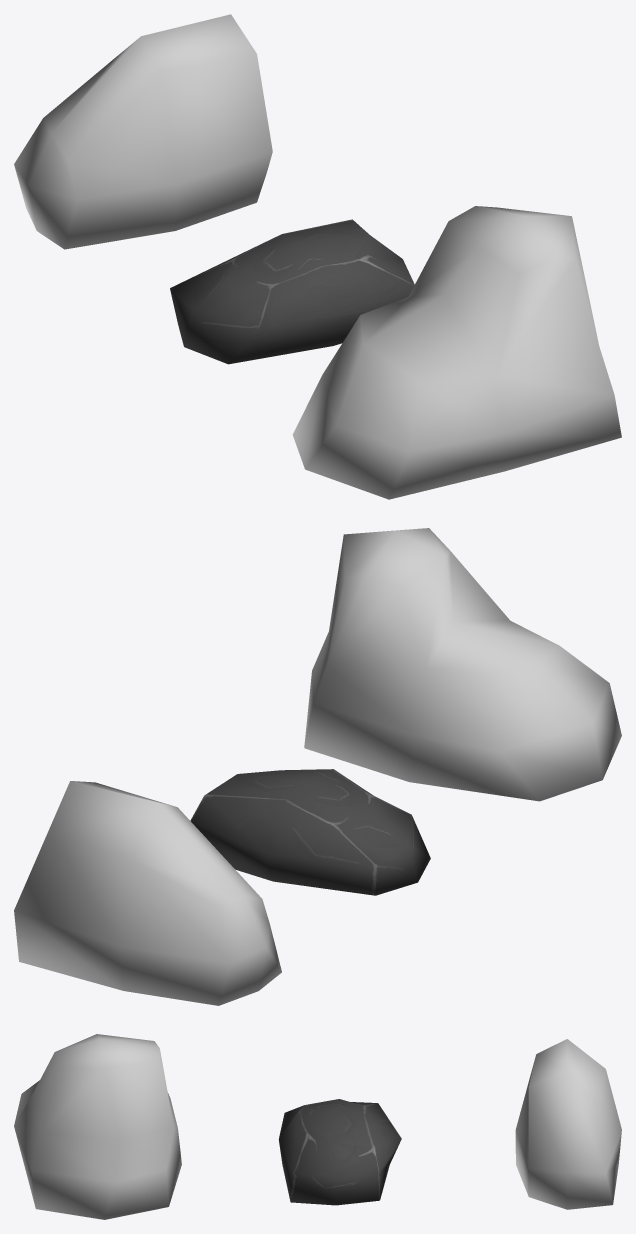
Rendered from Stones.fbx.
3 views of the same model, one above another, from view 1: azimuth 30°, elevation 25°; view 2: azimuth 150°, elevation 25°; view 3: azimuth 270°, elevation 25° (orthographic). The views are drawn at different scales.
Visible parts, largest first — view 1: Stone3, Stone1, Stone2.001; view 2: Stone3, Stone1, Stone2.001; view 3: Stone3, Stone1, Stone2.001.
Part boxes in pixels (x1,y1,x2,y2): Stone3: (292, 206, 621, 499); Stone1: (14, 14, 272, 249); Stone2.001: (170, 219, 414, 364); Stone3: (304, 528, 621, 801); Stone1: (14, 781, 281, 1005); Stone2.001: (190, 769, 430, 895); Stone3: (14, 1034, 181, 1219); Stone1: (515, 1039, 621, 1209); Stone2.001: (278, 1099, 401, 1205).
Size of the model in its own units: 6.68 by 4.3 by 15.77.
